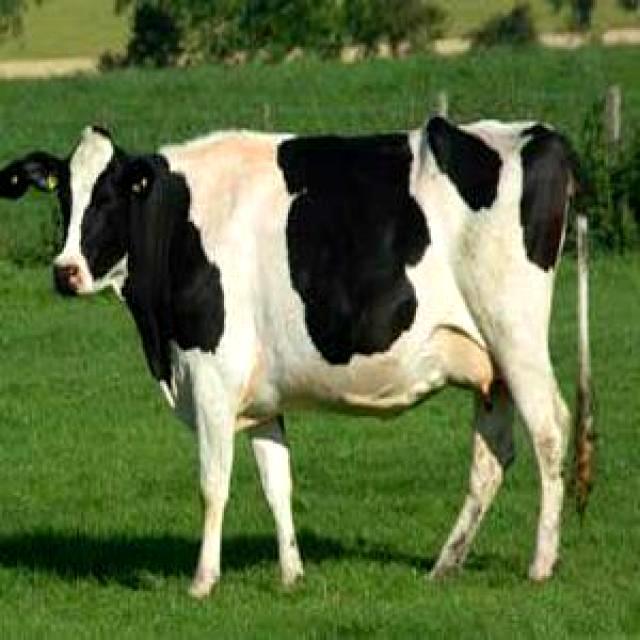COW: (0, 115, 585, 596), (575, 211, 592, 503)
